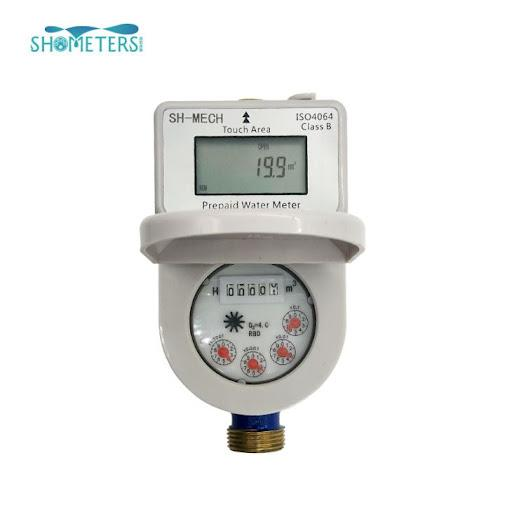0: (270, 282, 279, 296), (248, 285, 257, 297), (259, 284, 267, 296), (227, 287, 235, 298), (237, 287, 245, 298)
border_water_meter_number: (220, 272, 285, 305)
